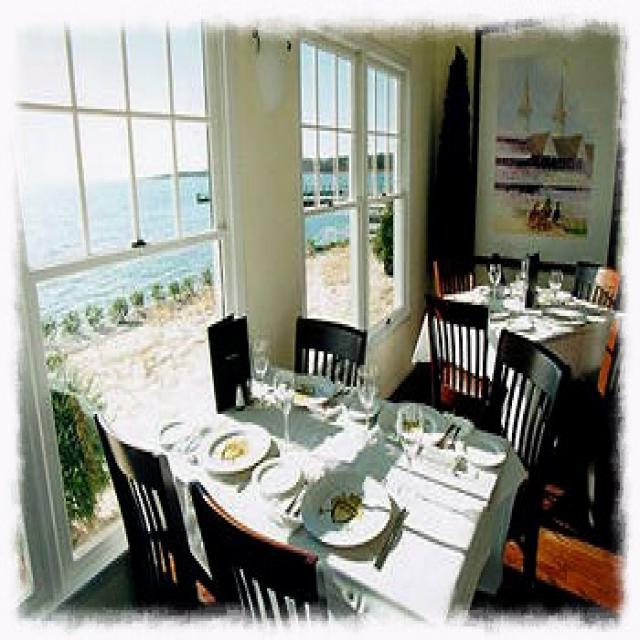2001: (2, 0, 234, 629), (296, 25, 360, 365), (364, 52, 404, 330)
ceiling beam: (212, 0, 638, 30)
chair -occluded-: (293, 316, 364, 387)
chair part: (95, 409, 219, 635), (486, 321, 565, 632), (187, 479, 324, 635), (422, 291, 492, 422), (571, 261, 620, 308)
dish -X: (302, 466, 388, 545), (197, 417, 271, 477), (464, 425, 507, 466)
floor -X: (133, 357, 636, 637)
glass ceiling: (353, 359, 377, 460), (271, 362, 293, 449)
knife holder: (373, 504, 404, 566)
picture crop: (474, 19, 624, 261)
table -X: (135, 351, 517, 632)
table runner: (411, 275, 625, 409)
wall clock: (2, 0, 428, 637), (424, 0, 638, 406)
